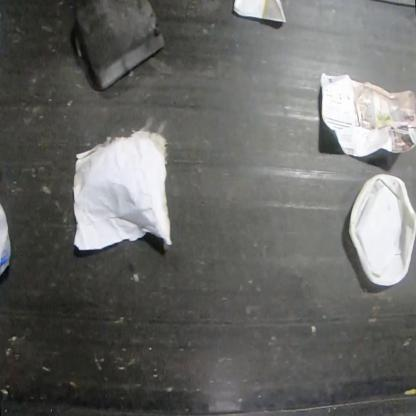rigid_plastic: (73, 0, 167, 92), (348, 172, 415, 287)
